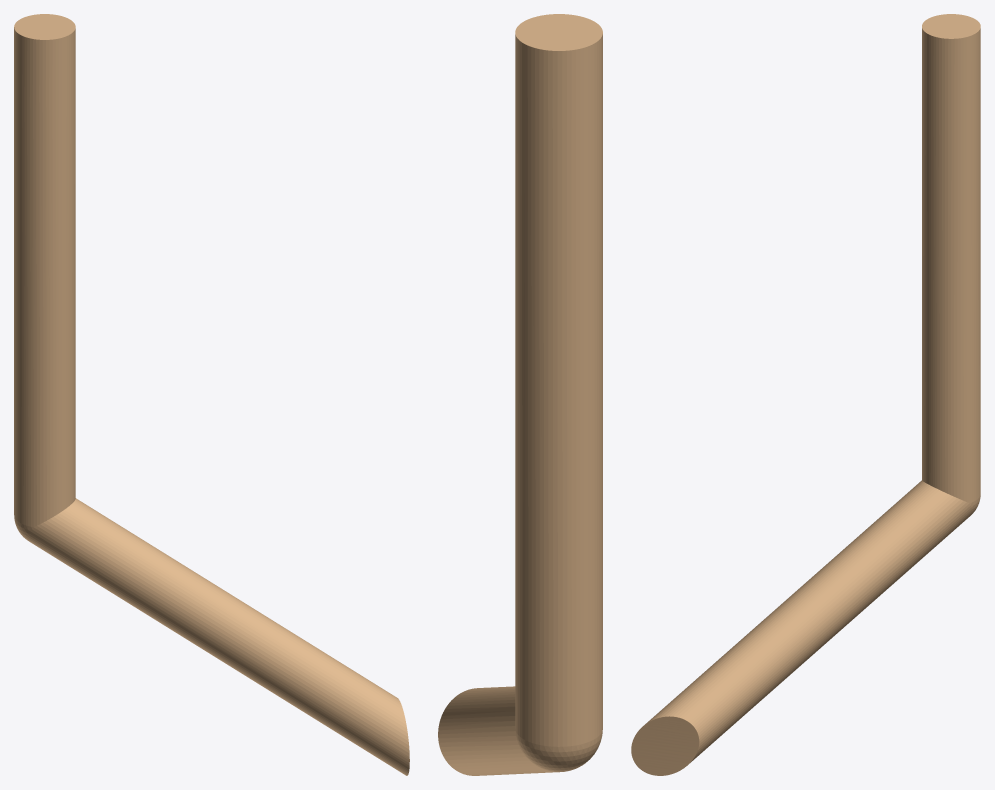
The model's file is starter-solenoid-lead-hold-frame.glb.
3 views of the same model, side by side, from view 1: azimuth 30°, elevation 25°; view 2: azimuth 150°, elevation 25°; view 3: azimuth 270°, elevation 25° (orthographic). The views are drawn at different scales.
Visible parts, largest first — view 1: world; view 2: world; view 3: world.
Boxes of the visible parts, x1,y1,x2,y2 form: world: (14,14,409,775); world: (438,14,602,775); world: (631,14,980,775).
Bounding box in the file's own units: 0.00365 × 0.00979 × 0.00475.
